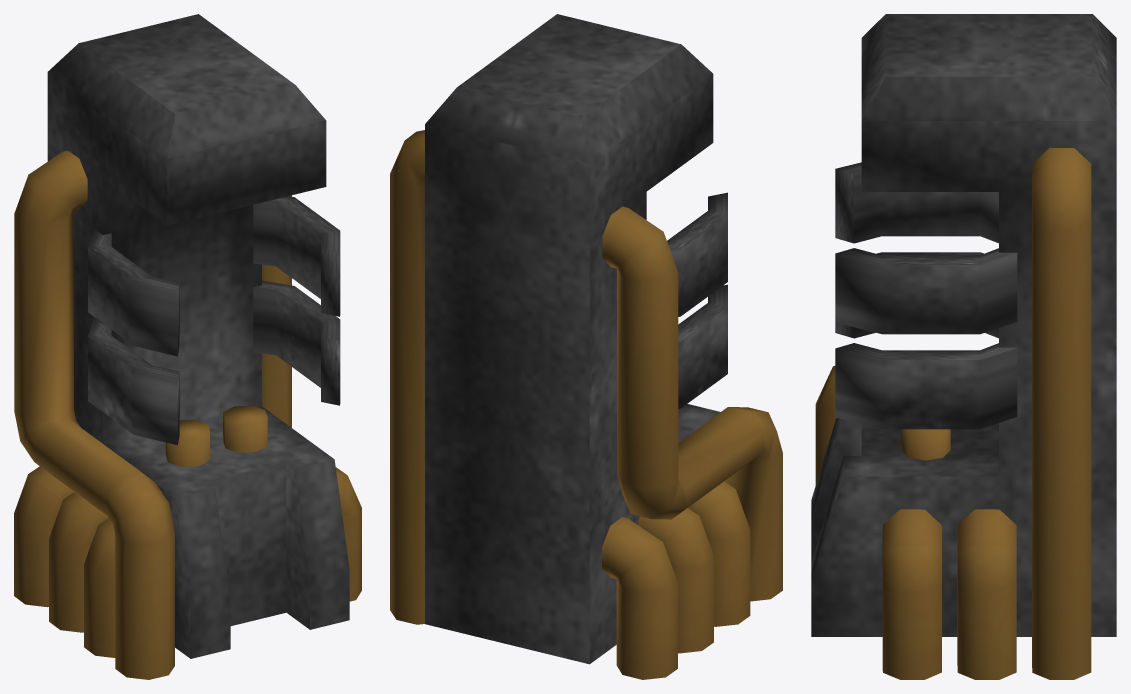
The model's file is grave_power_station.glb.
3 views of the same model, side by side, from view 1: azimuth 30°, elevation 25°; view 2: azimuth 150°, elevation 25°; view 3: azimuth 270°, elevation 25° (orthographic). The views are drawn at different scales.
Parts seen in each view (by area): view 1: power_station; view 2: power_station; view 3: power_station.
Part boxes in pixels (x1,y1,x2,y2): power_station: (14, 14, 361, 679); power_station: (390, 14, 782, 679); power_station: (811, 14, 1116, 679).
Bounding box in the file's own units: 1.68 × 3.18 × 1.56.
2 materials, 2 textured.
